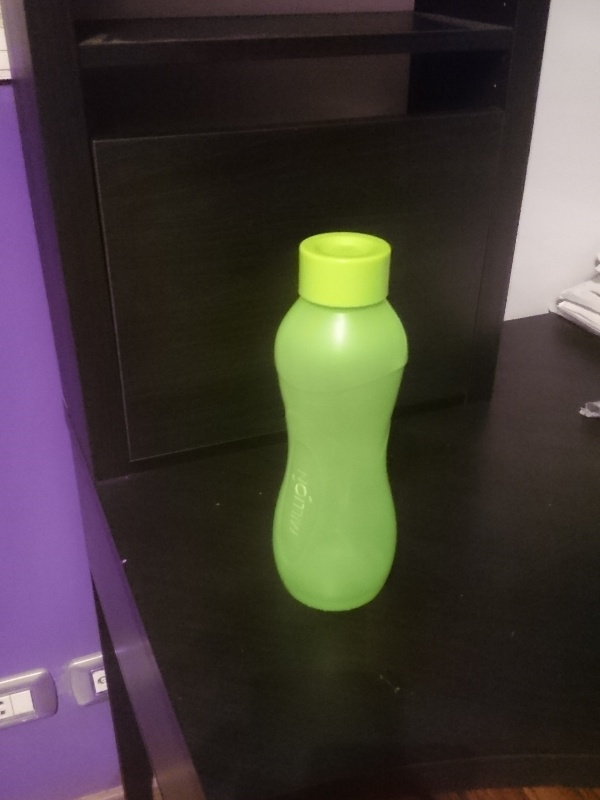my bottle: (270, 233, 407, 615)
